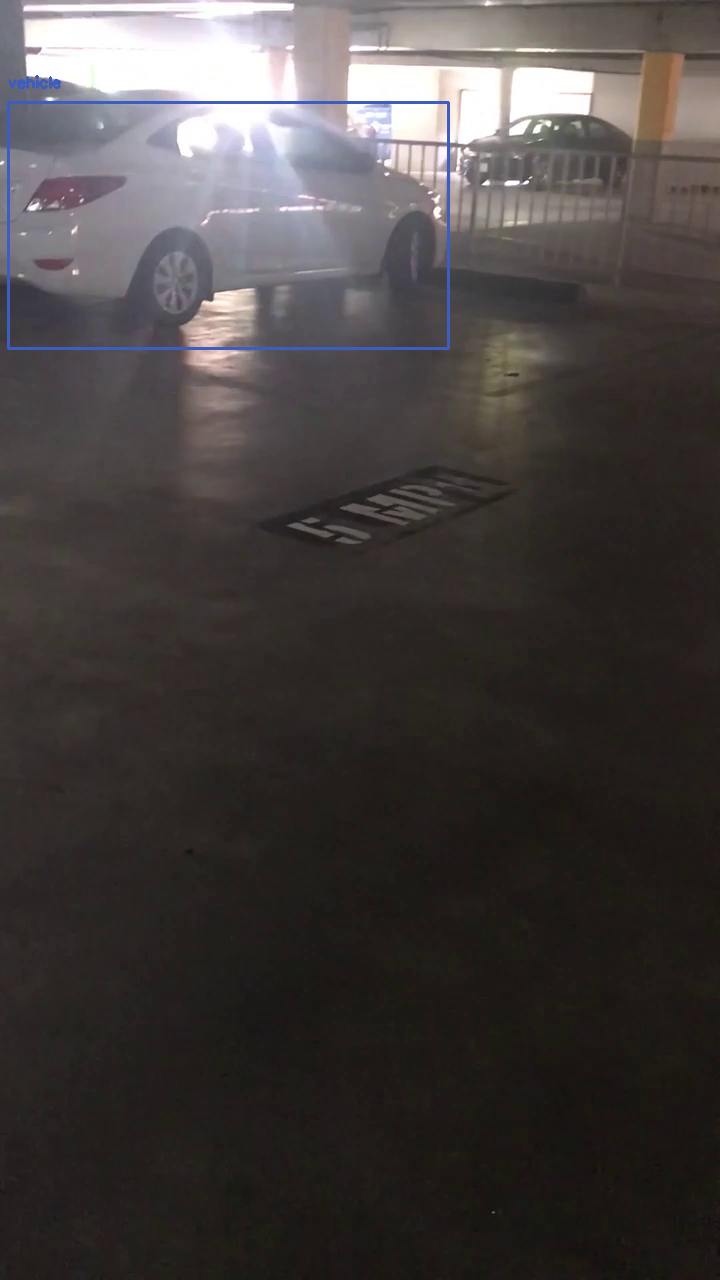vehicle: (8, 102, 448, 348)
